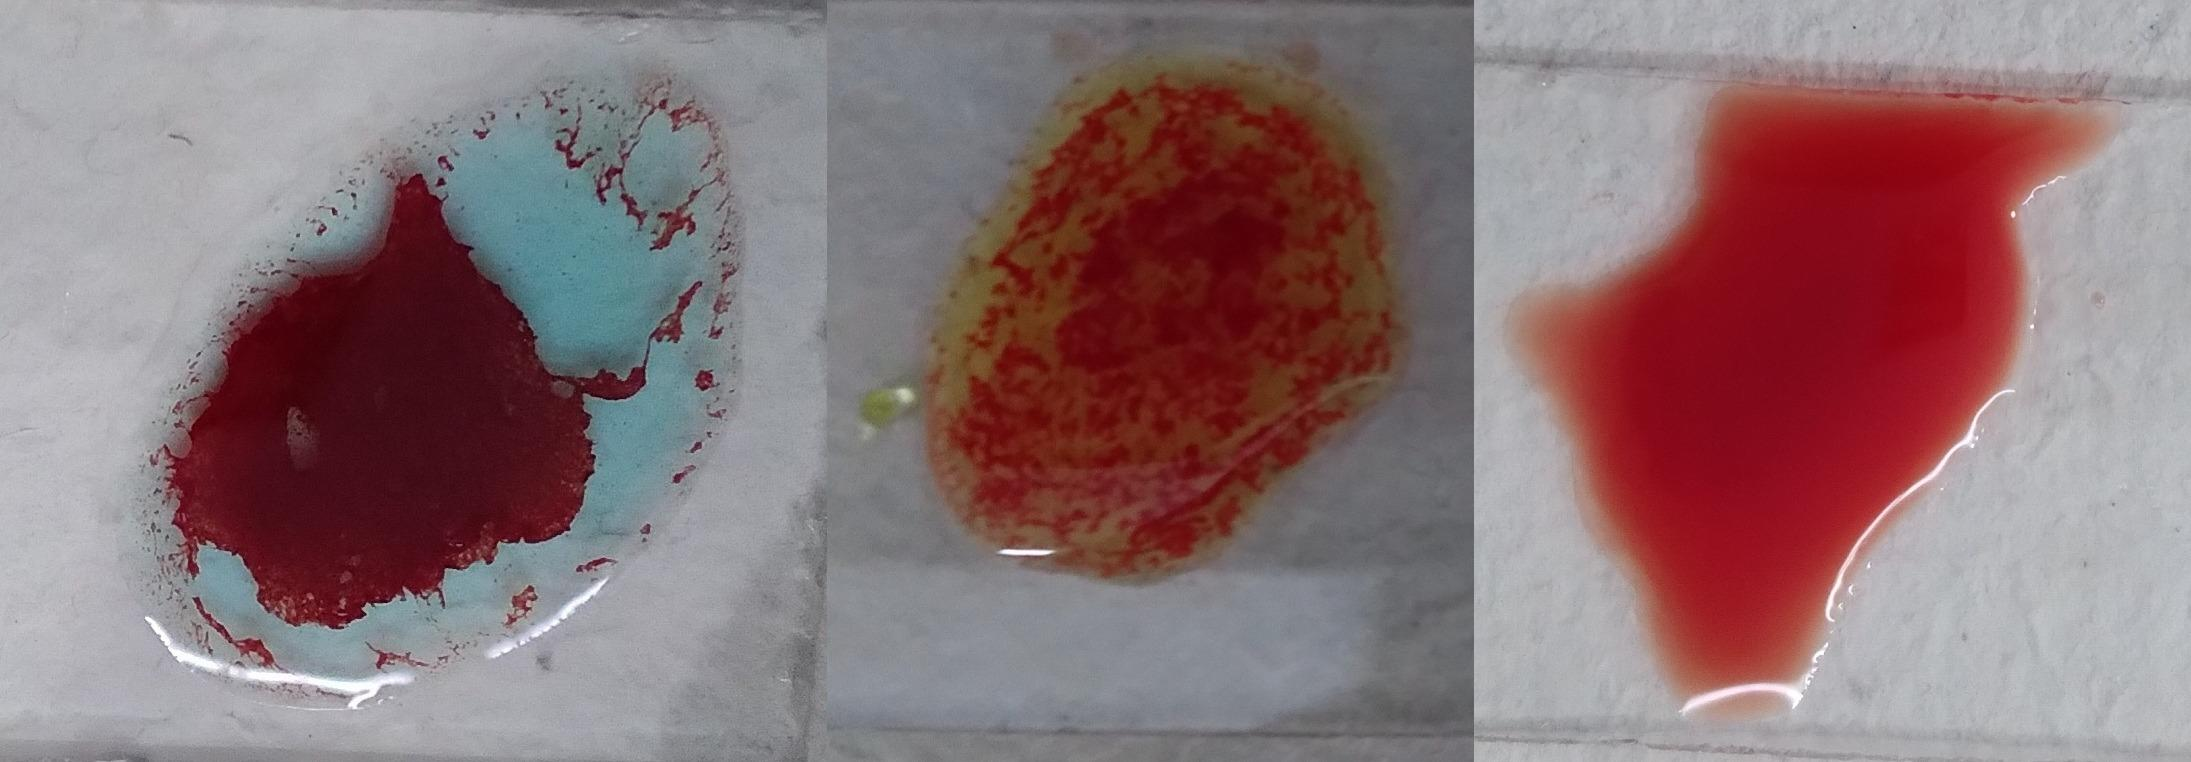A: (145, 55, 729, 702)
B: (936, 34, 1400, 584)
